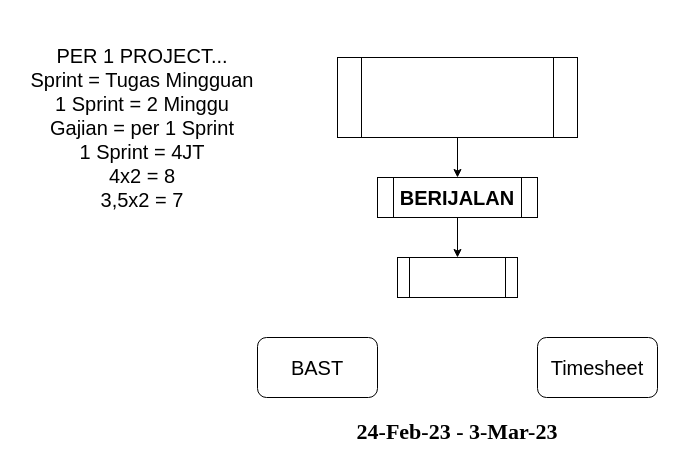
The diagram is 675 pixels wide and 474 high, and some of its shapes have lost their labels. Here are the shapes that lost their labels. From the top down, the centre of each, then its label:
At point (457, 97): "ASTRA INTERNASIONAL".
At point (457, 277): "SEVA.ID".
